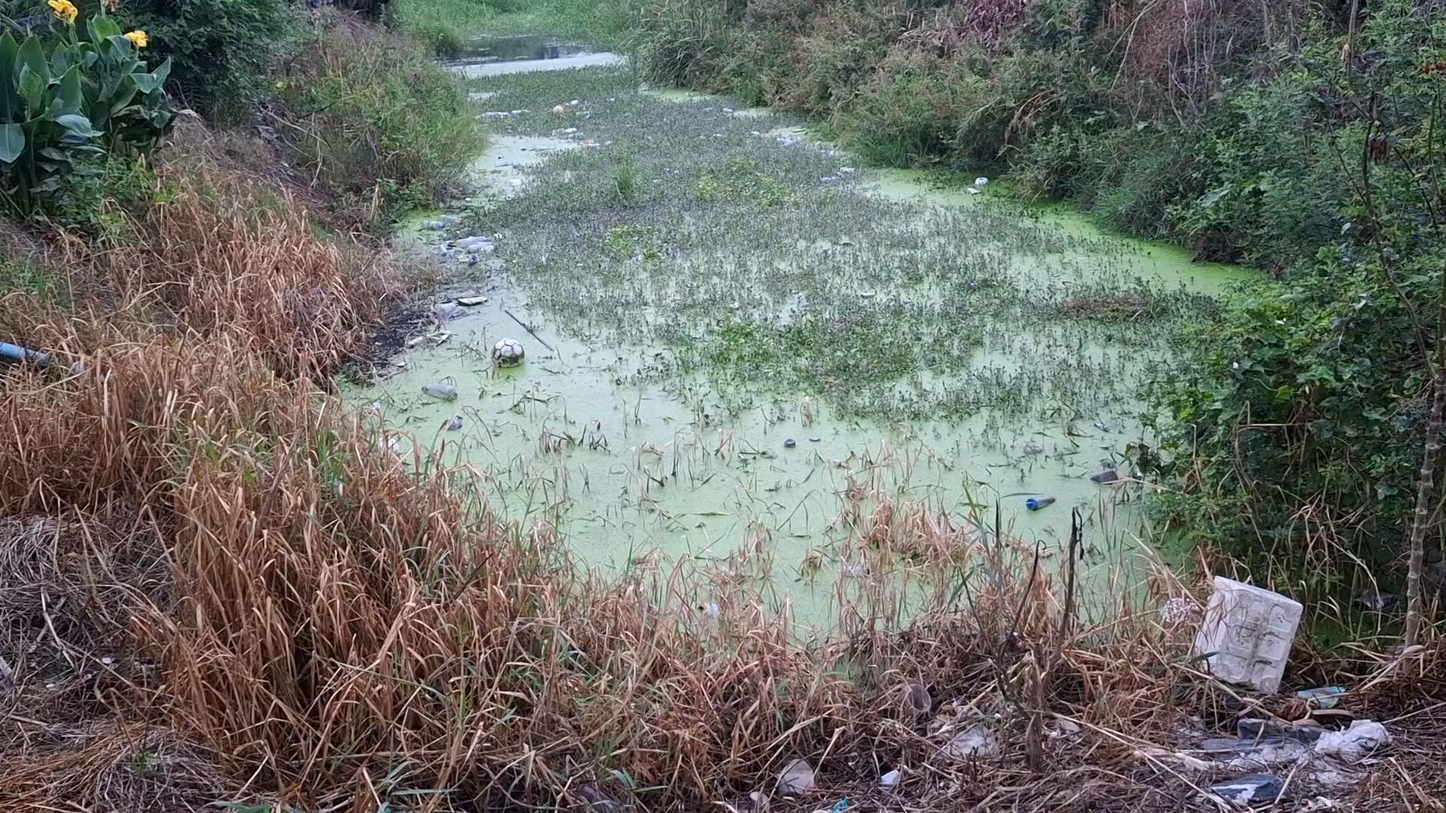ignore: (661, 220, 1108, 416), (520, 163, 809, 327), (481, 79, 740, 183)
trash: (439, 233, 510, 269), (485, 334, 530, 370), (420, 206, 469, 233), (419, 375, 462, 403), (841, 554, 887, 580), (813, 165, 867, 185), (1018, 493, 1070, 513), (449, 287, 492, 310), (433, 410, 468, 435), (777, 431, 825, 449), (963, 176, 1002, 198), (1091, 465, 1121, 489)
